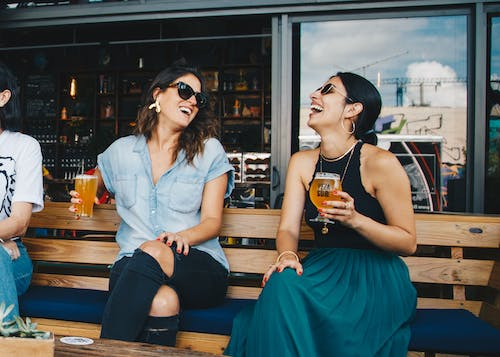alcohol: (308, 171, 343, 224), (72, 173, 99, 219)
